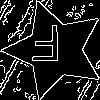F: (30, 24, 62, 71)
